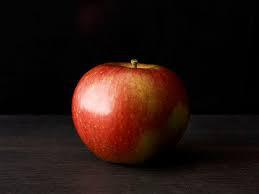apple: (69, 61, 183, 165)
